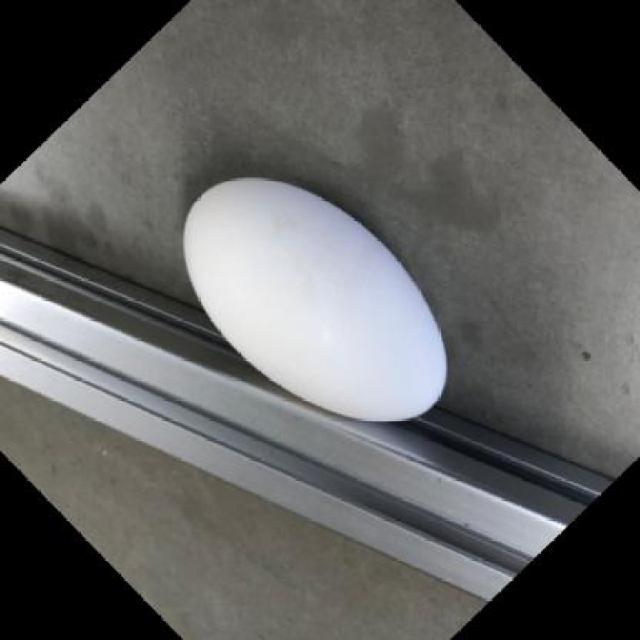egg: (178, 164, 456, 426)
